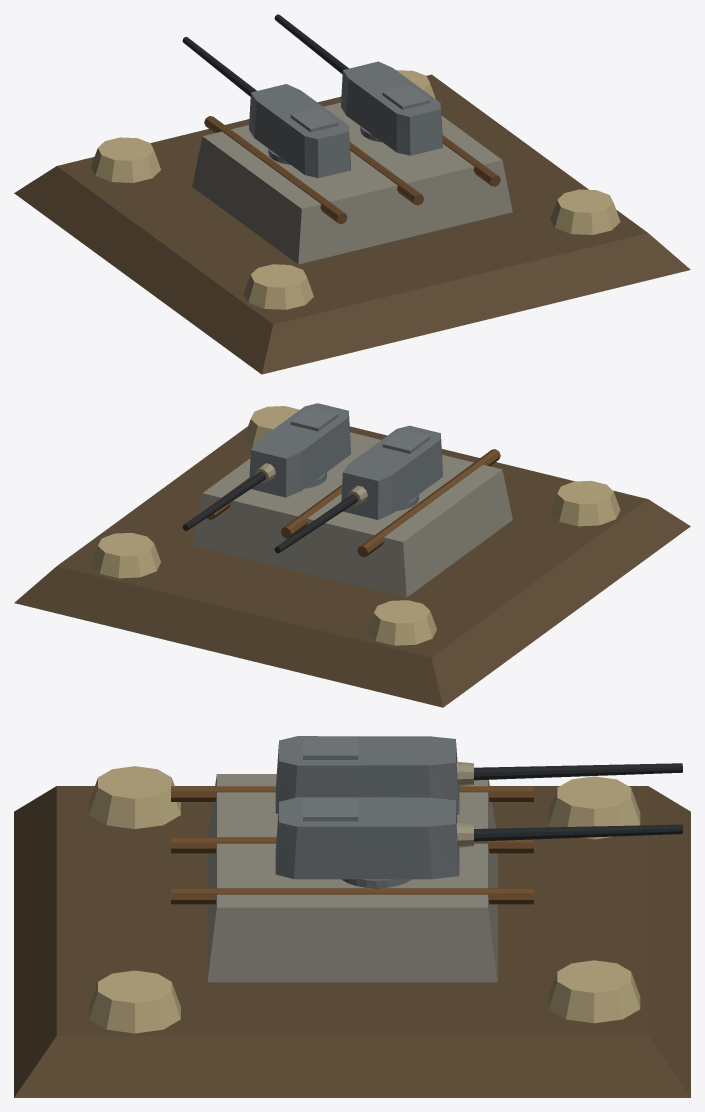
File: shore_battery.glb
3 renders of one model, top to bottom at view 1: azimuth 30°, elevation 25°; view 2: azimuth 150°, elevation 25°; view 3: azimuth 270°, elevation 25°, orthographic. The views are drawn at different scales.
Visible parts, largest first — view 1: Hull, Gun1, Gun2; view 2: Hull, Gun2, Gun1; view 3: Hull, Gun2, Gun1.
Boxes of the visible parts, x1=… form: Hull: x1=14, y1=70, x2=690, y2=374; Gun1: x1=182, y1=37, x2=350, y2=178; Gun2: x1=274, y1=14, x2=442, y2=155; Hull: x1=14, y1=406, x2=690, y2=707; Gun2: x1=182, y1=403, x2=350, y2=530; Gun1: x1=274, y1=425, x2=442, y2=553; Hull: x1=14, y1=766, x2=690, y2=1097; Gun2: x1=275, y1=797, x2=682, y2=888; Gun1: x1=275, y1=736, x2=682, y2=814.
Bounding box in the file's own units: 28 × 8.11 × 28.
